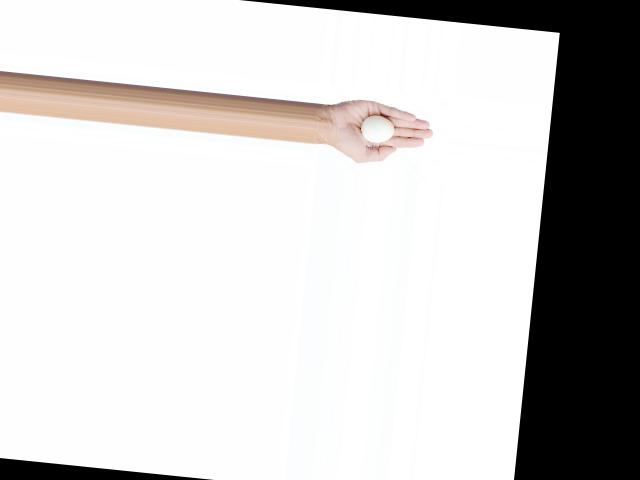egg: (360, 114, 396, 143)
